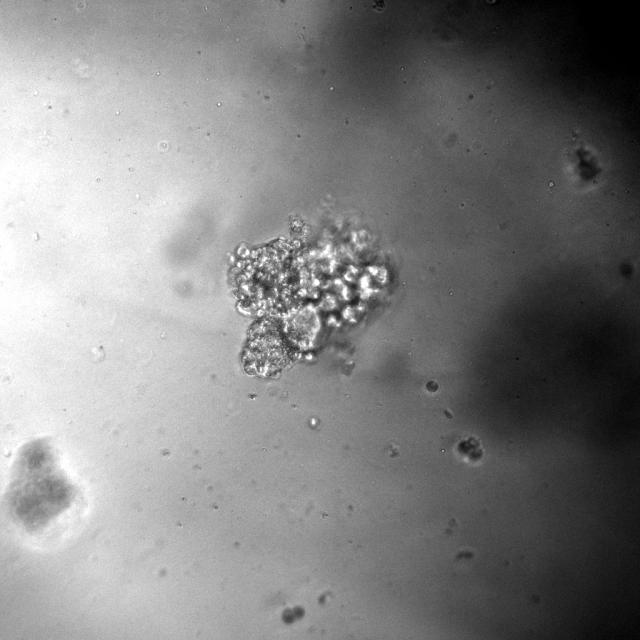organoid: (227, 211, 399, 379), (0, 438, 84, 537), (458, 436, 484, 462), (282, 605, 304, 624), (424, 379, 439, 393)
